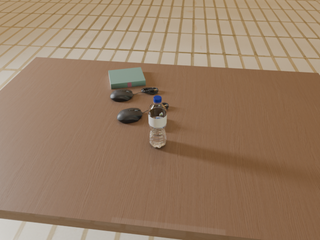book: (109, 67, 146, 89)
bottle: (149, 96, 167, 148)
mouse: (117, 108, 143, 123), (110, 89, 134, 102)
